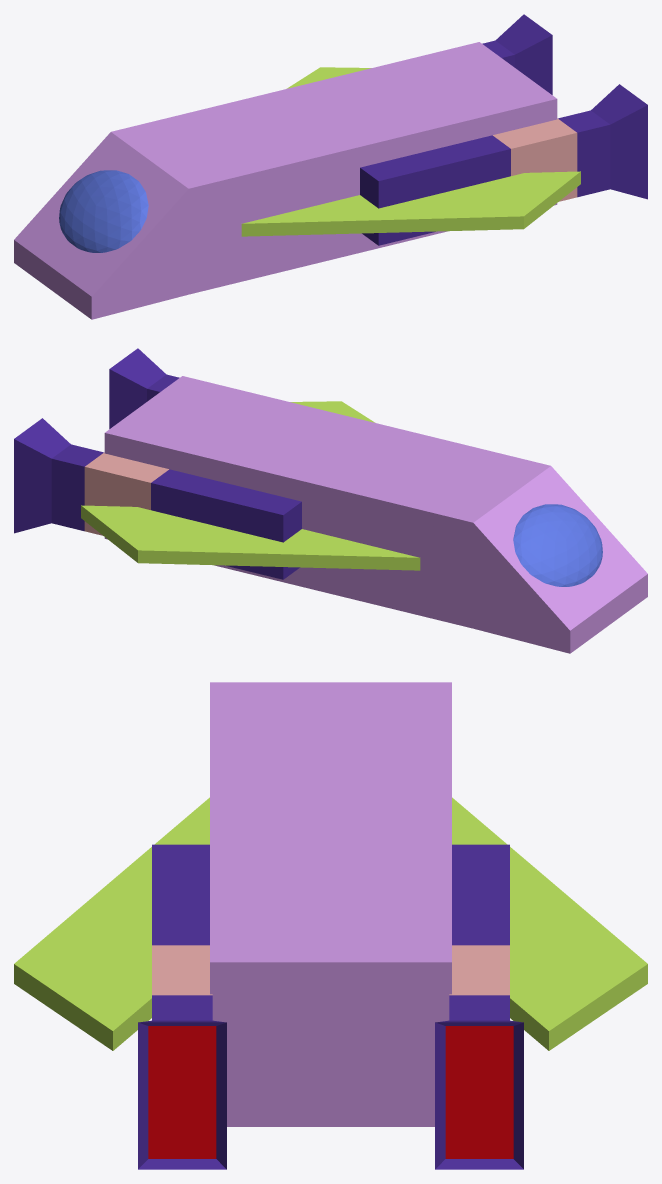
The model's file is spaceship.fbx.
3 views of the same model, one above another, from view 1: azimuth 30°, elevation 25°; view 2: azimuth 150°, elevation 25°; view 3: azimuth 270°, elevation 25° (orthographic). The views are drawn at different scales.
Parts seen in each view (by area): view 1: Cube, Cube.001, Cube.002, Icosphere; view 2: Cube, Cube.001, Cube.002, Icosphere; view 3: Cube, Cube.001, Cube.002.
Boxes of the visible parts, bbox=[...] form: Cube: bbox=[14, 42, 557, 319]; Cube.001: bbox=[360, 14, 647, 245]; Cube.002: bbox=[241, 67, 580, 236]; Icosphere: bbox=[59, 170, 148, 252]; Cube: bbox=[104, 376, 647, 653]; Cube.001: bbox=[14, 348, 301, 579]; Cube.002: bbox=[81, 401, 420, 570]; Icosphere: bbox=[513, 504, 602, 586]; Cube: bbox=[210, 682, 451, 1126]; Cube.001: bbox=[138, 844, 523, 1169]; Cube.002: bbox=[14, 797, 647, 1050].
Bounding box in the file's own units: 386 × 112 × 583.
